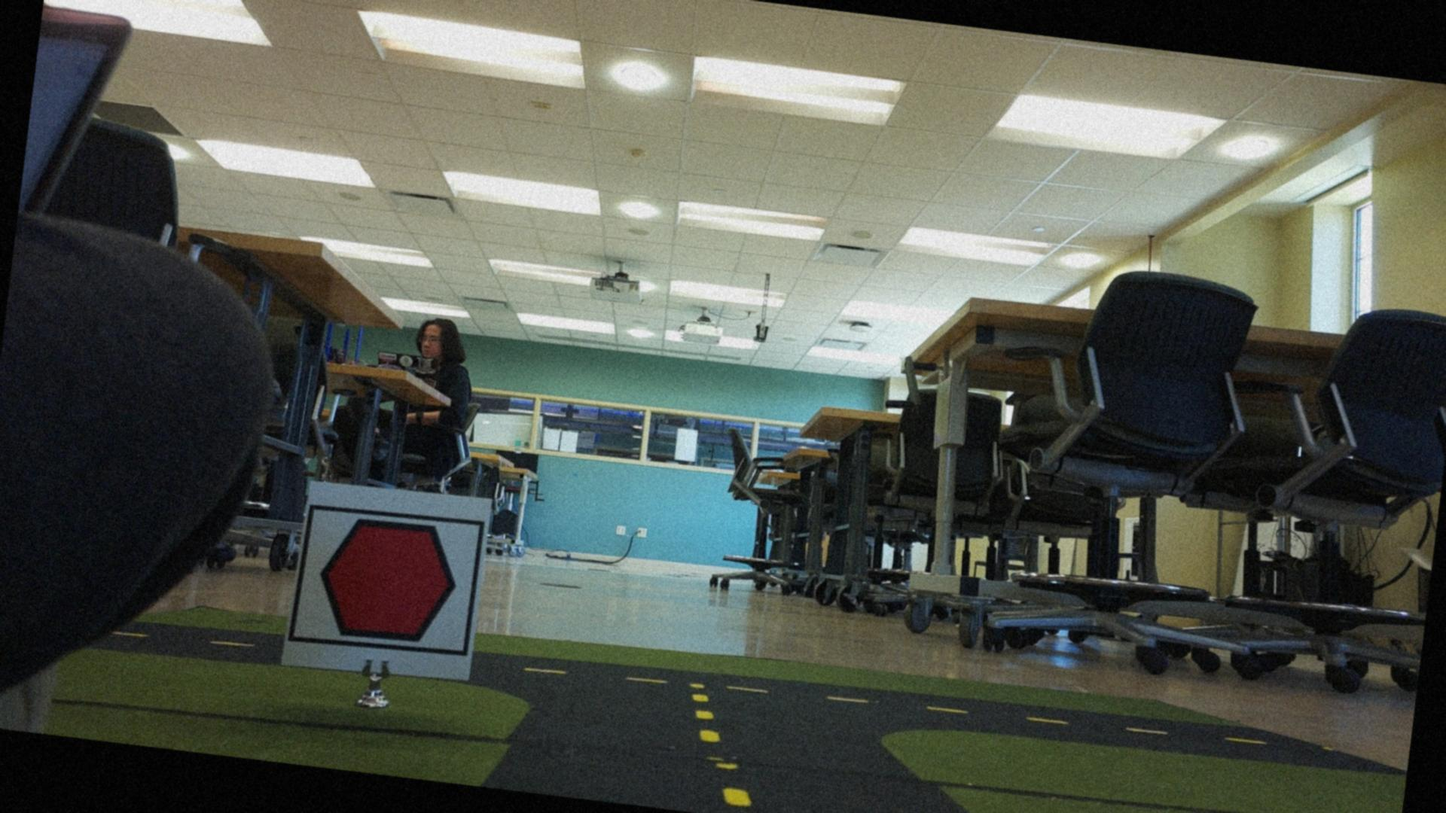stop: (300, 506, 475, 653)
yellowline: (679, 682, 764, 812)
